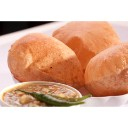poori: (7, 33, 82, 89), (86, 41, 128, 94), (54, 22, 120, 54)
